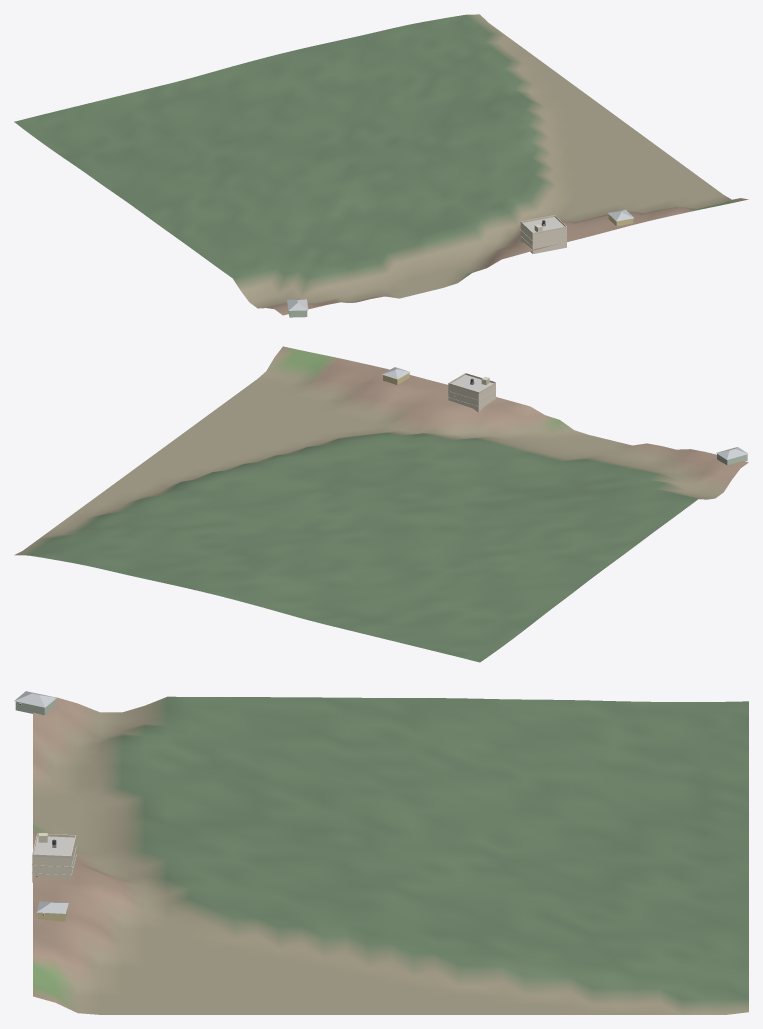
3 views of the same model, one above another, from view 1: azimuth 30°, elevation 25°; view 2: azimuth 150°, elevation 25°; view 3: azimuth 270°, elevation 25° (orthographic). The views are drawn at different scales.
Parts seen in each view (by area): view 1: Terrain-col, Buildings-col; view 2: Terrain-col, Buildings-col; view 3: Terrain-col, Buildings-col, Details.
Part boxes in pixels (left/top/right/bottom): Terrain-col: left=14, top=14, right=748, bottom=315; Buildings-col: left=287, top=209, right=634, bottom=317; Terrain-col: left=14, top=346, right=748, bottom=662; Buildings-col: left=382, top=367, right=748, bottom=465; Terrain-col: left=33, top=696, right=748, bottom=1014; Buildings-col: left=14, top=691, right=76, bottom=921; Details: left=19, top=703, right=76, bottom=915.
Size of the model in its own units: 256 by 18.45 by 263.
